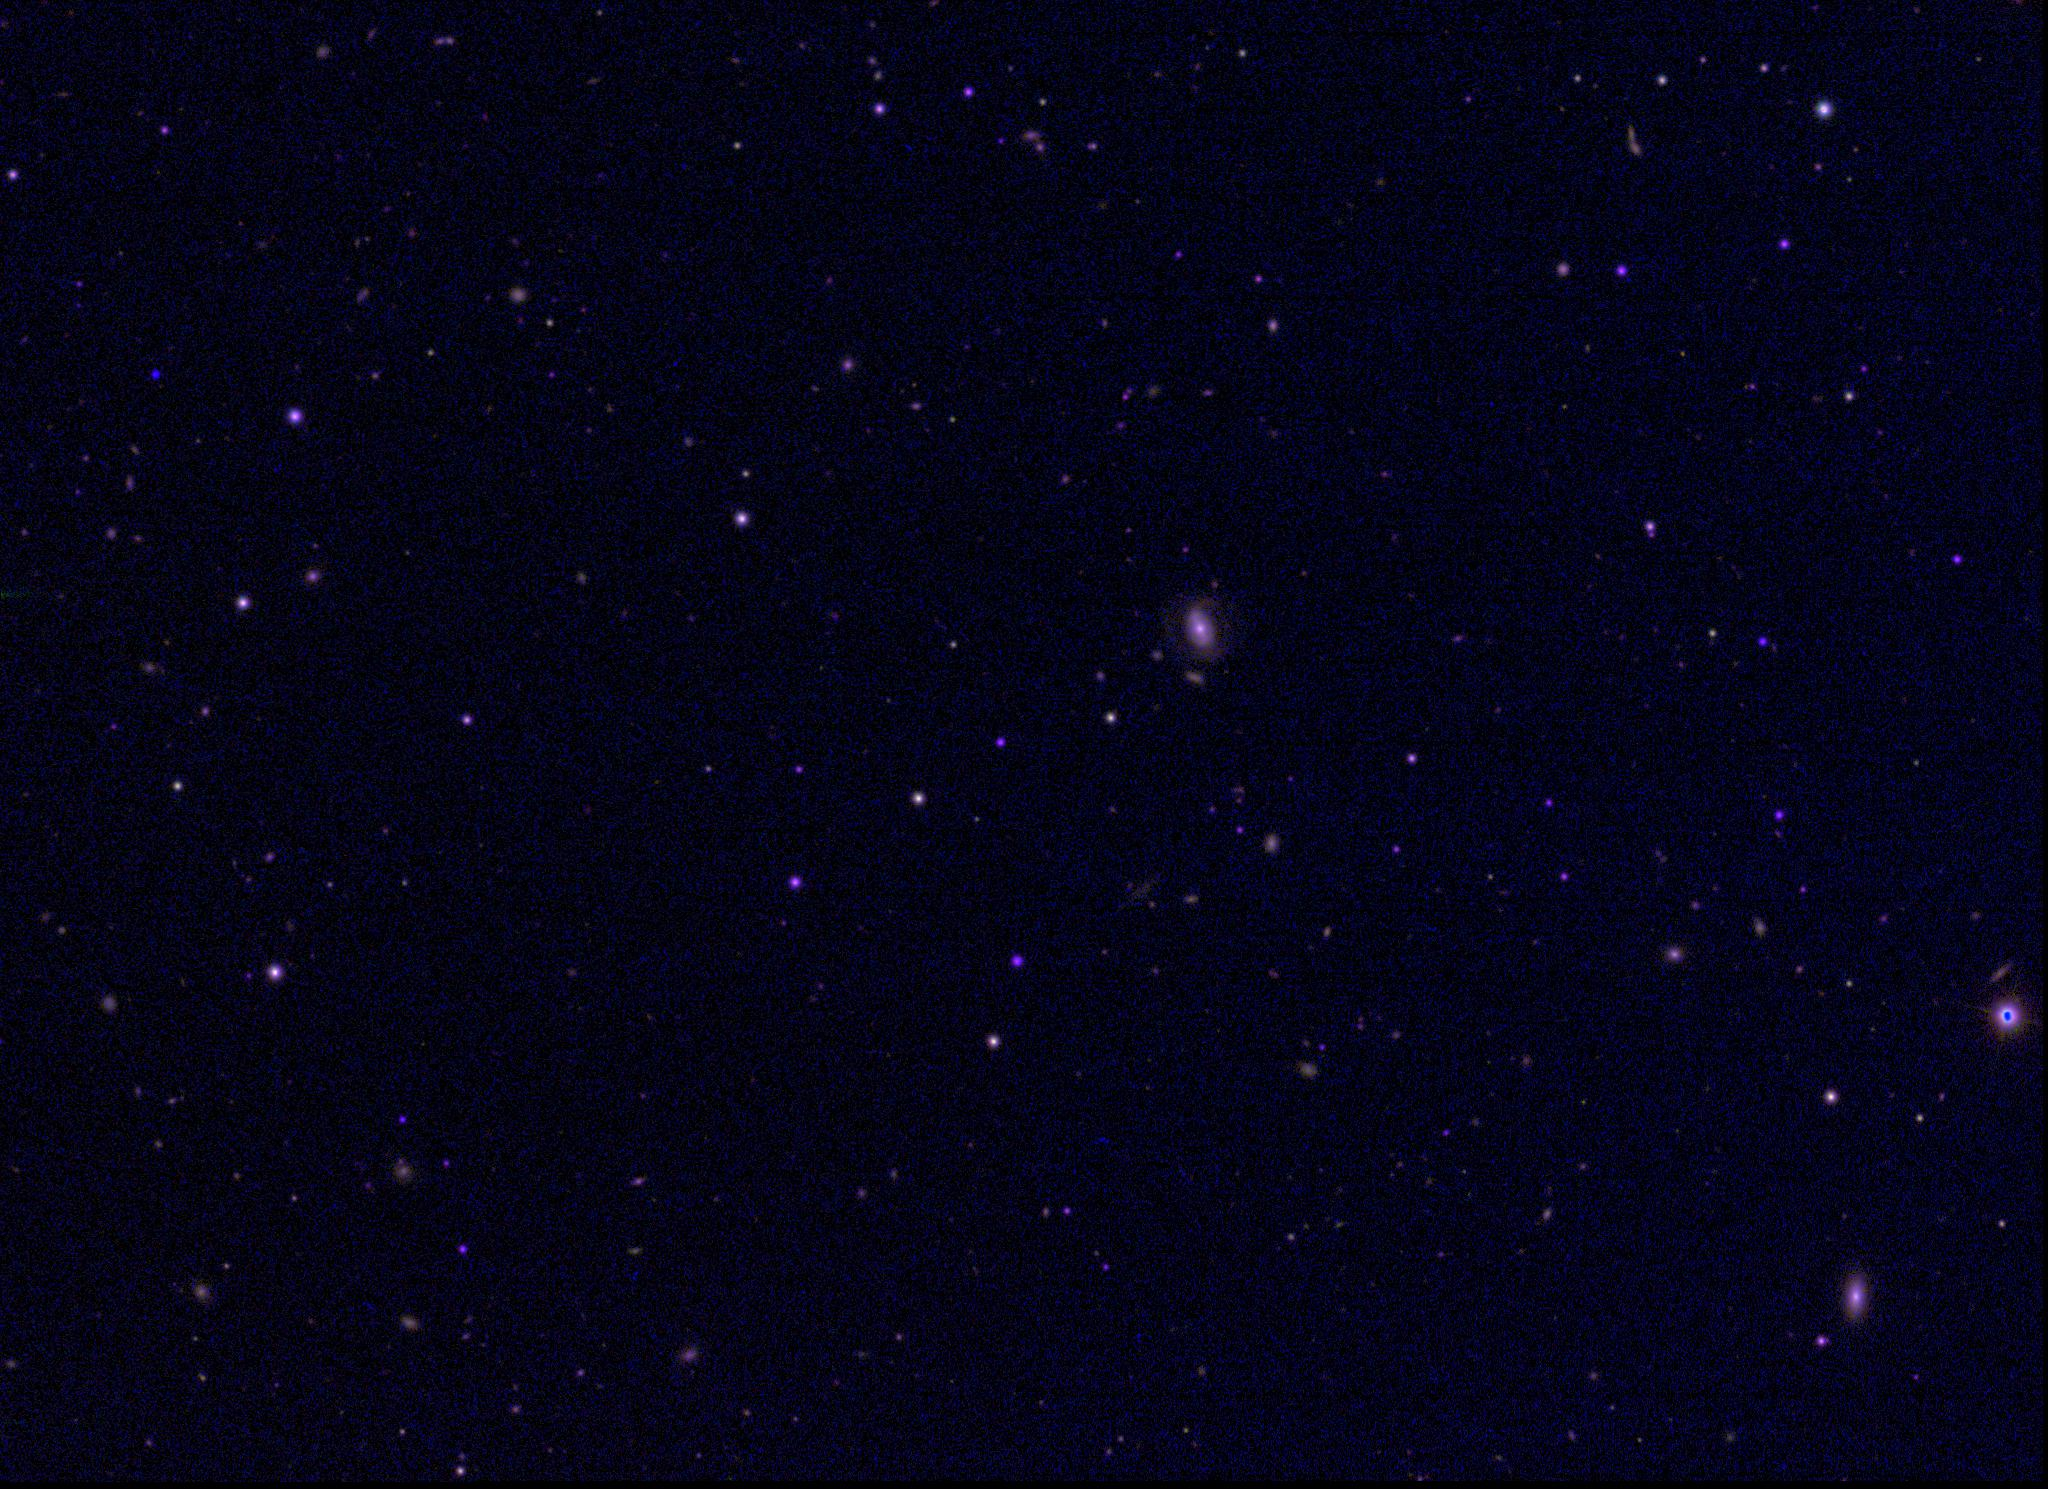L: (148, 367, 162, 382)
